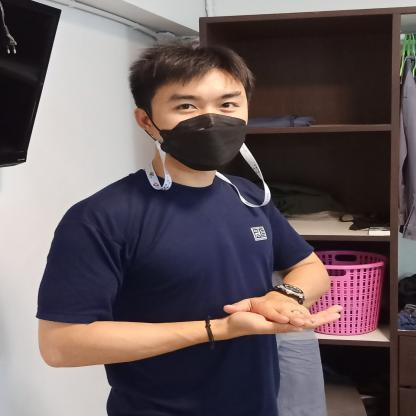Love: (155, 264, 386, 376)
